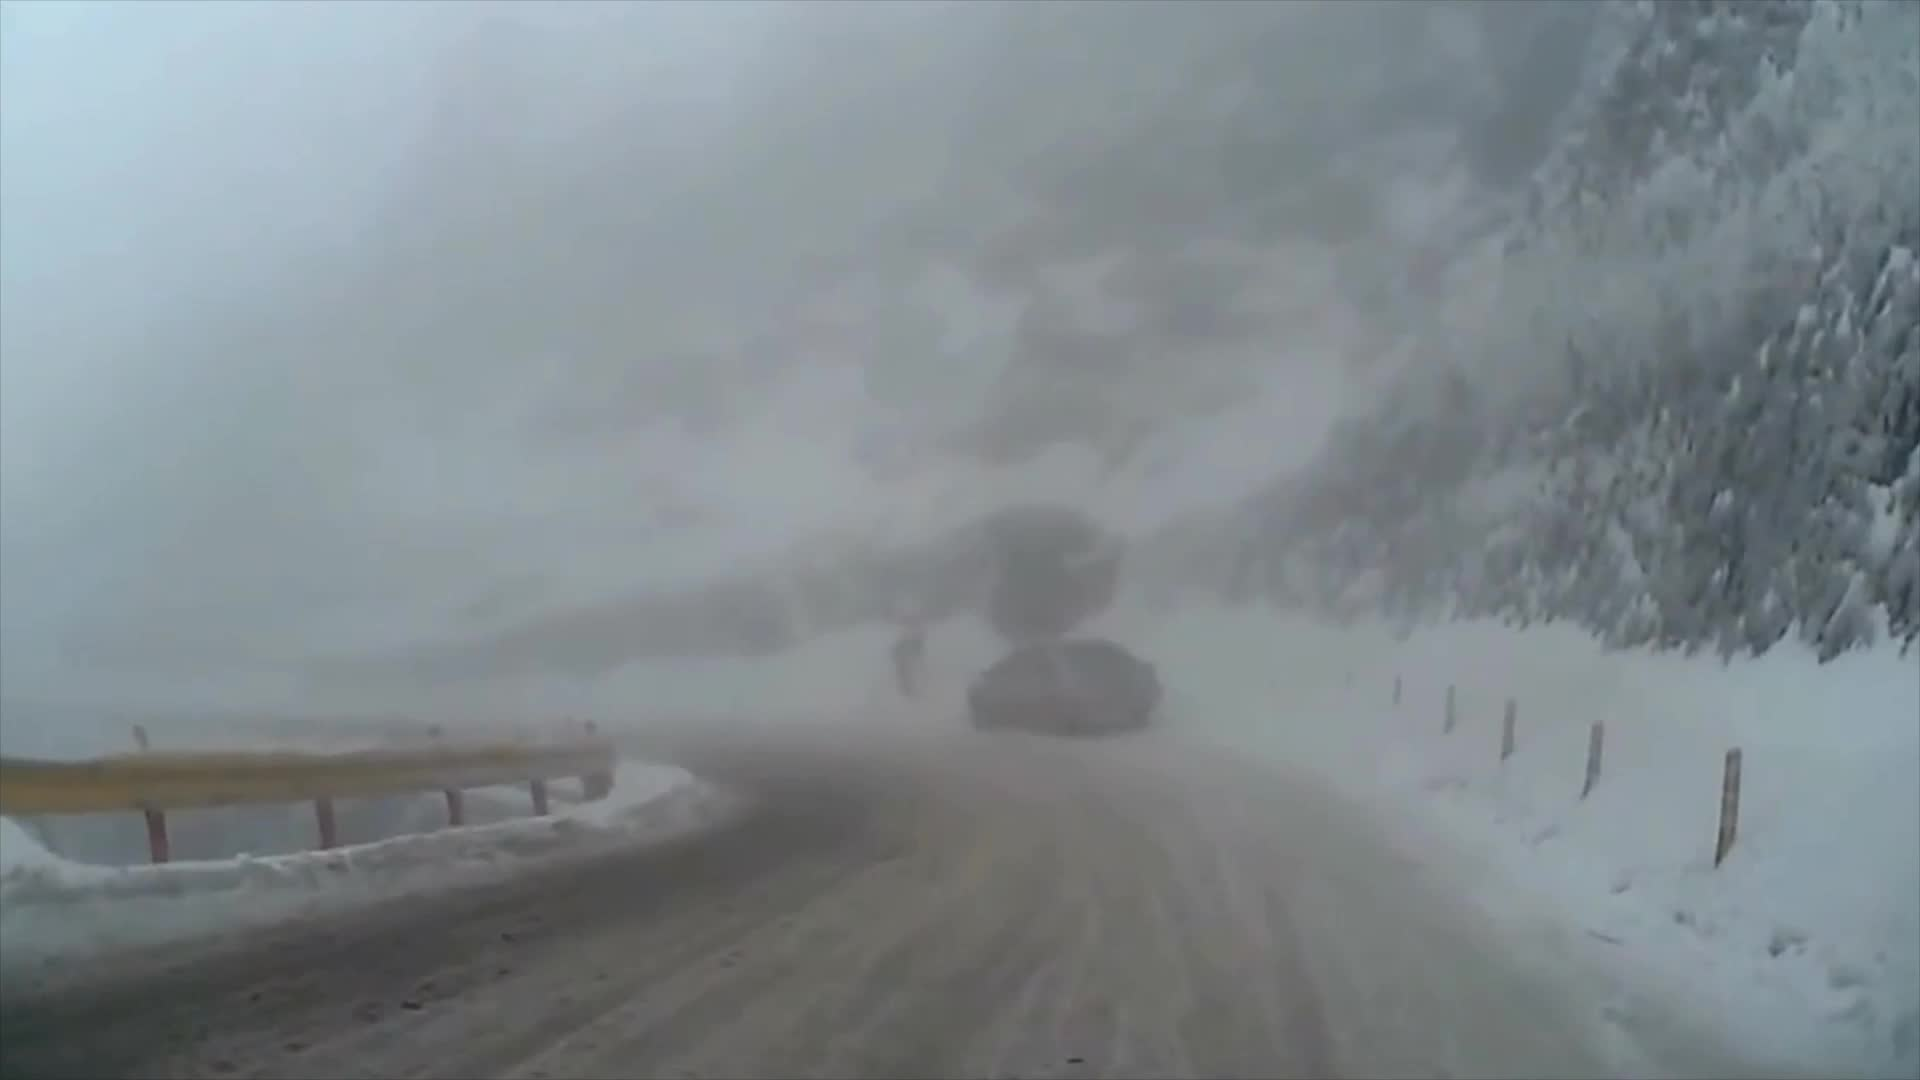pedestrian: (889, 634, 928, 705)
vehicle: (966, 638, 1160, 735)
